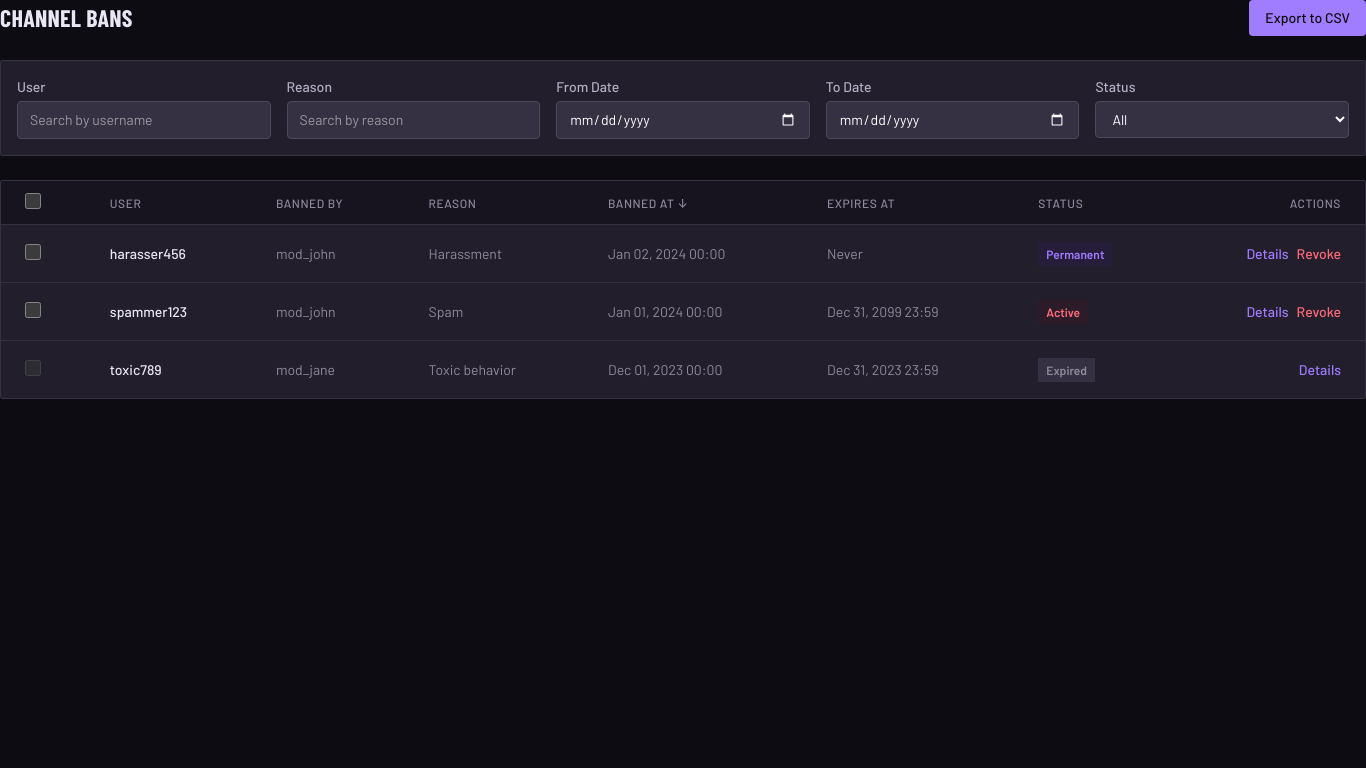
Test: BanListViewer › Revoke Ban › opens revoke confirmation modal when revoke is clicked
The image size is (1366, 768).
Expected: the text "spammer123" is shown, left=86, top=282, right=252, bottom=340
Step 1. Click the button "Revoke" in the row of "harasser456" → [1319, 254], box left=1297, top=244, right=1341, bottom=264
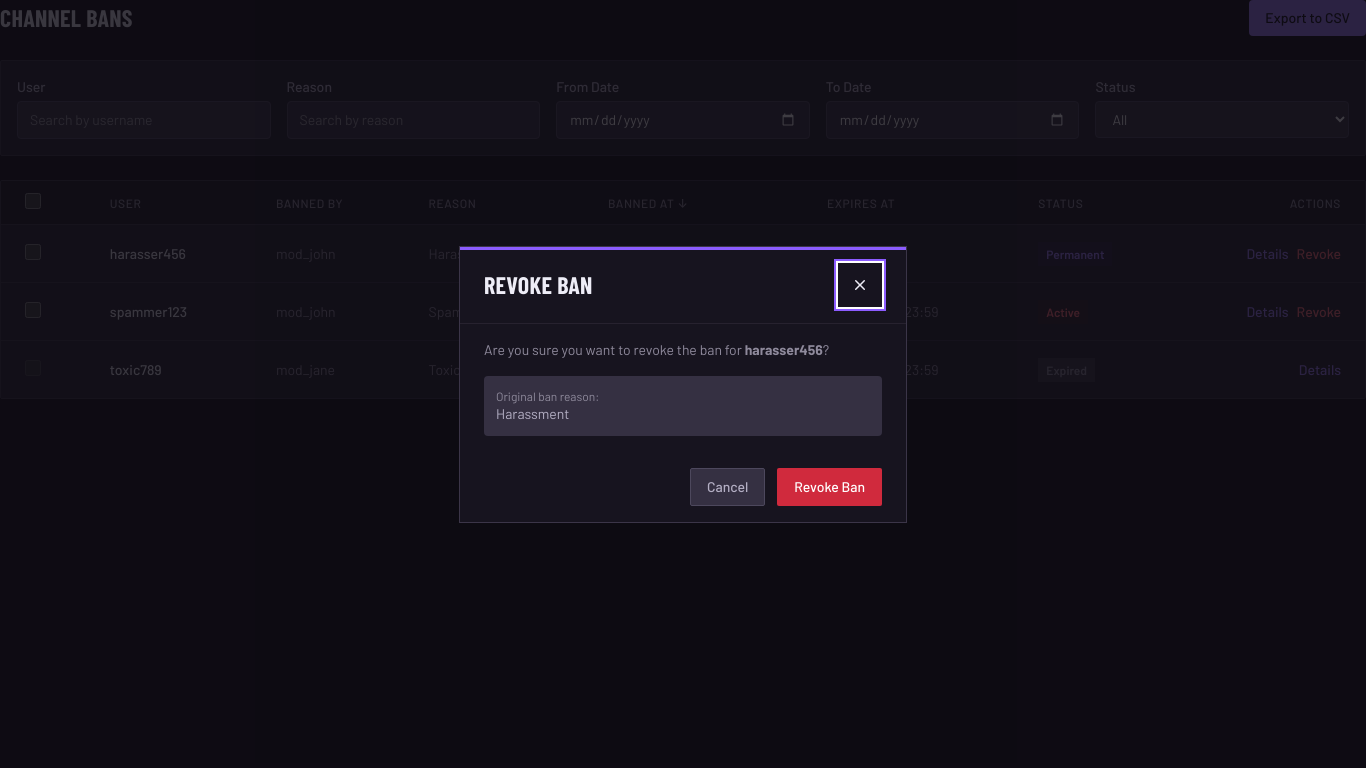
Result: the dialog is shown at left=459, top=246, right=907, bottom=522
Result: the text "Are you sure you want to revoke the ban for harasser456?" is shown at left=484, top=340, right=882, bottom=360
